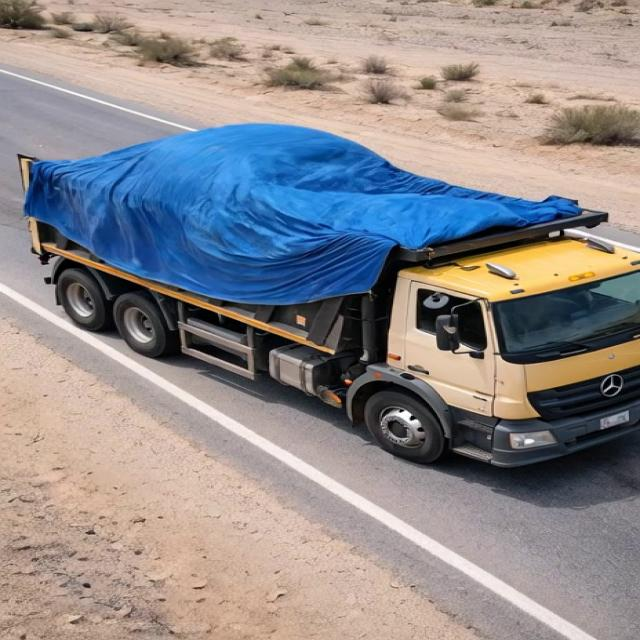Box: (14, 124, 610, 260)
Truck: (3, 77, 631, 421)
